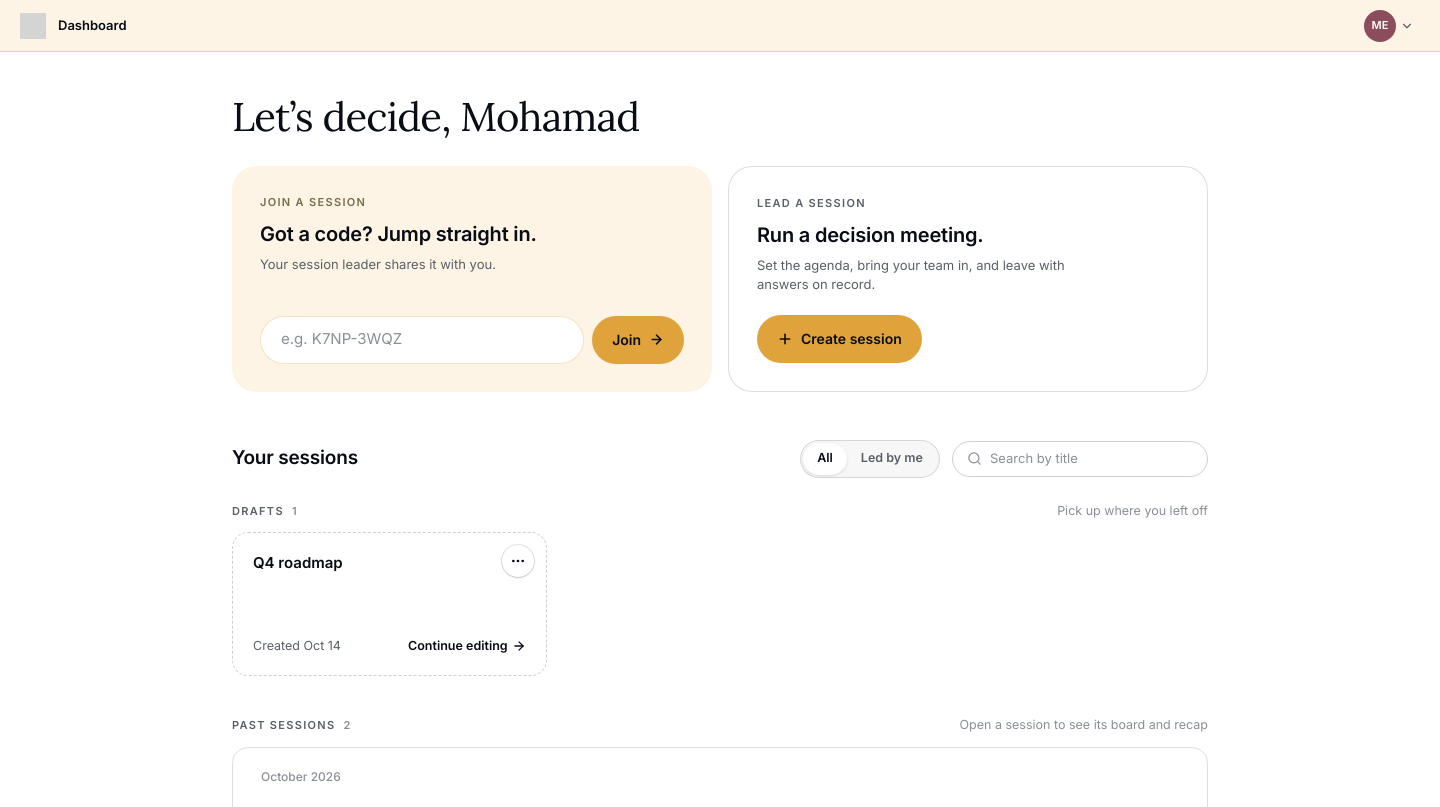
Test case: dashboard › says when a search finds nothing, and goes back to everything
The image size is (1440, 807).
Type "zebra" into the search field.
click(1092, 459); type("zebra")  # box [990,443,1193,474]
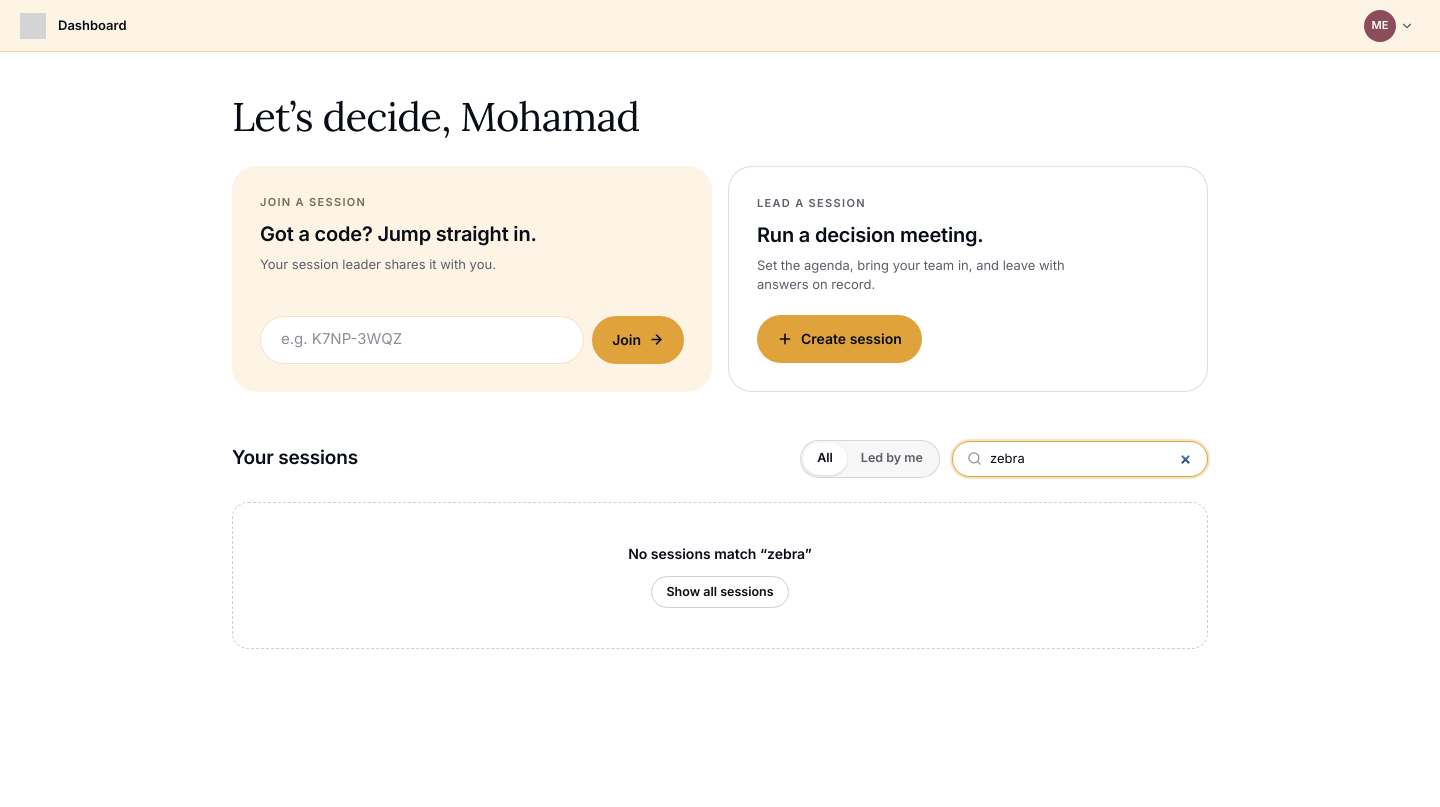
Check: the text "No sessions match “zebra”" is shown, box [628,542,812,564]
Click the button "Show all sessions".
click(720, 592)  # box [651,576,788,608]
(page scrolled)
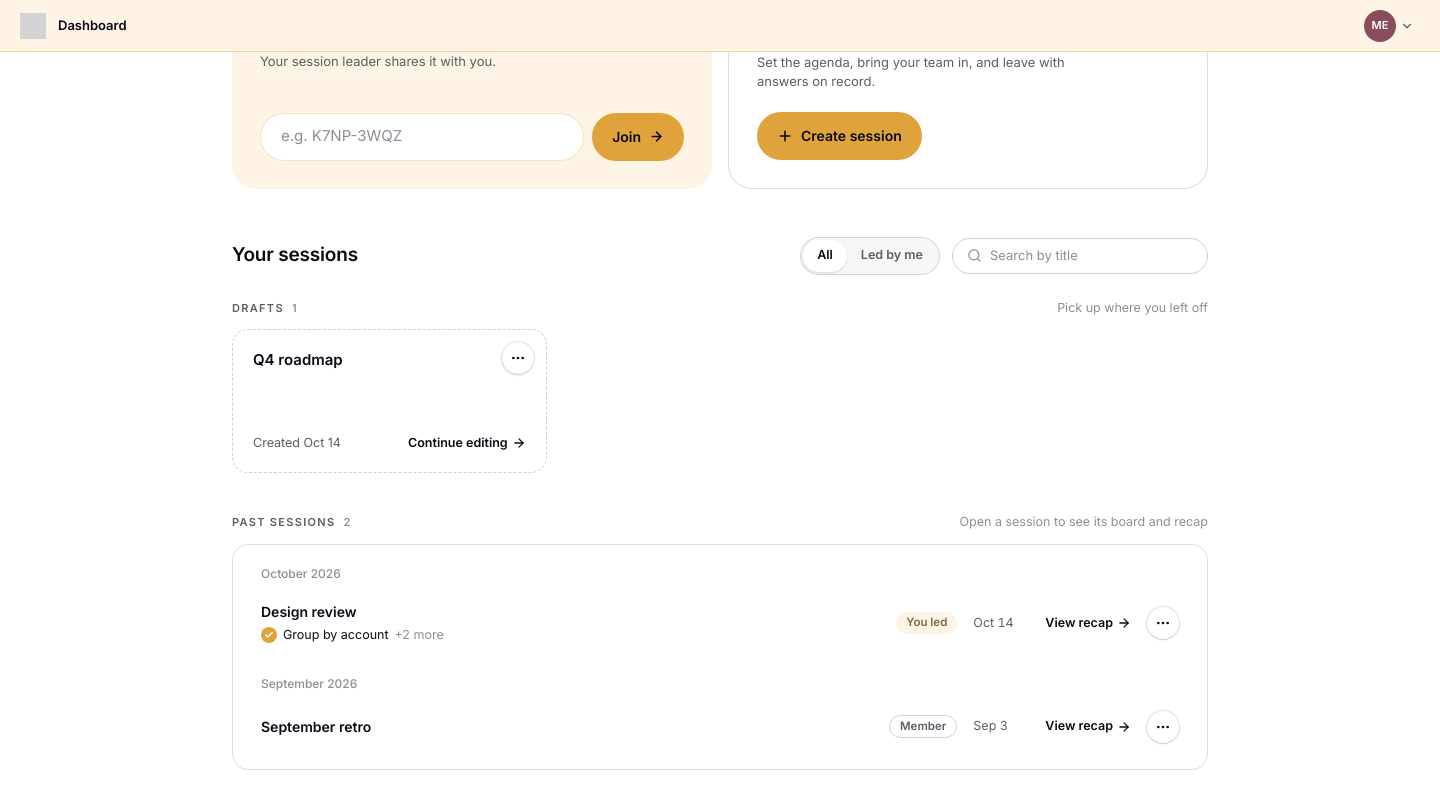
Check: the link "Design review" is shown, box [261,603,357,620]
